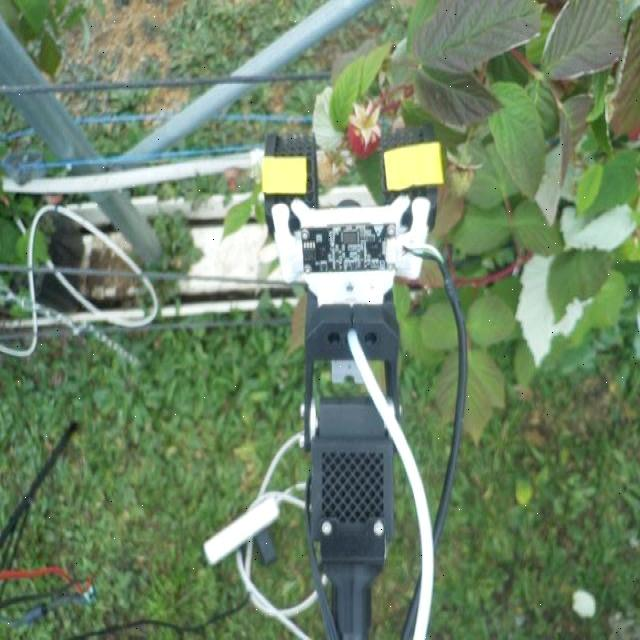Riped berries: (343, 98, 383, 162)
